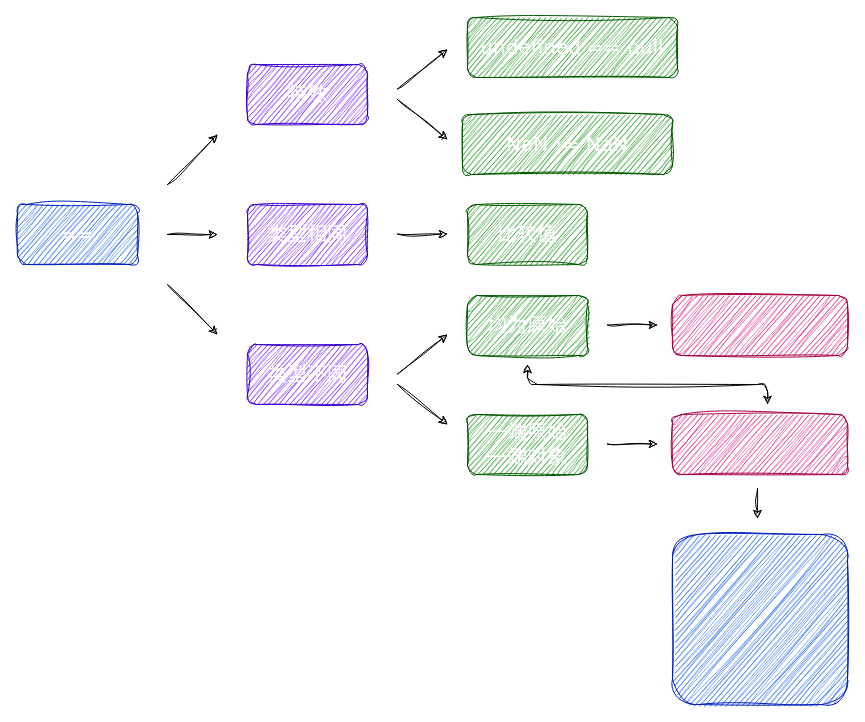
The diagram is 865 pixels wide and 722 high, and some of its shapes have lost their labels. Here are the shapes that lost their labels. From the top down, the centre of each, then its label:
At (x=760, y=325): "转化为数字比较".
At (x=760, y=444): "对象转原始后比较".
At (x=760, y=619): "先调用valueOf()，若无法转换成原始值，在调用toString()".
